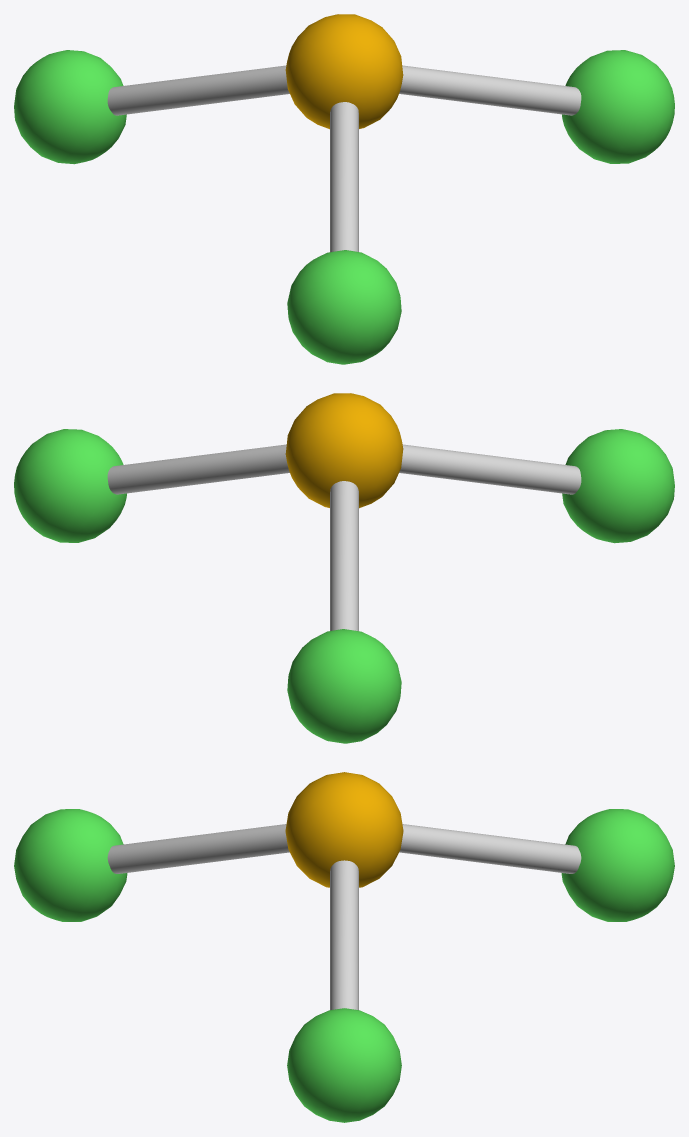
The model's file is PCL3.fbx.
The picture shows the model from 3 angles, top to bottom: view 1: azimuth 30°, elevation 25°; view 2: azimuth 150°, elevation 25°; view 3: azimuth 270°, elevation 25°; orthographic projection.
Parts seen in each view (by area): view 1: Atom_3_CL, Atom_0_P, Atom_2_CL, Atom_4_CL, Bond_002, Bond, Bond_001; view 2: Atom_4_CL, Atom_0_P, Atom_2_CL, Atom_3_CL, Bond_001, Bond, Bond_002; view 3: Atom_2_CL, Atom_0_P, Atom_4_CL, Atom_3_CL, Bond_002, Bond_001, Bond.
Boxes of the visible parts, x1,y1,x2,y2 form: Atom_3_CL: [287, 250, 401, 364]; Atom_0_P: [285, 14, 403, 129]; Atom_2_CL: [562, 50, 674, 163]; Atom_4_CL: [14, 50, 126, 164]; Bond_002: [107, 65, 289, 115]; Bond: [399, 65, 581, 115]; Bond_001: [330, 102, 358, 252]; Atom_4_CL: [287, 629, 401, 743]; Atom_0_P: [285, 393, 403, 508]; Atom_2_CL: [14, 429, 126, 542]; Atom_3_CL: [562, 429, 674, 543]; Bond_001: [399, 444, 581, 494]; Bond: [107, 444, 289, 494]; Bond_002: [330, 481, 358, 631]; Atom_2_CL: [287, 1008, 401, 1122]; Atom_0_P: [285, 772, 403, 887]; Atom_4_CL: [561, 809, 674, 921]; Atom_3_CL: [14, 809, 127, 921]; Bond_002: [399, 824, 581, 873]; Bond_001: [107, 824, 289, 873]; Bond: [330, 860, 358, 1009].
Bounding box in the file's own units: 3.58 × 1.39 × 4.03.
